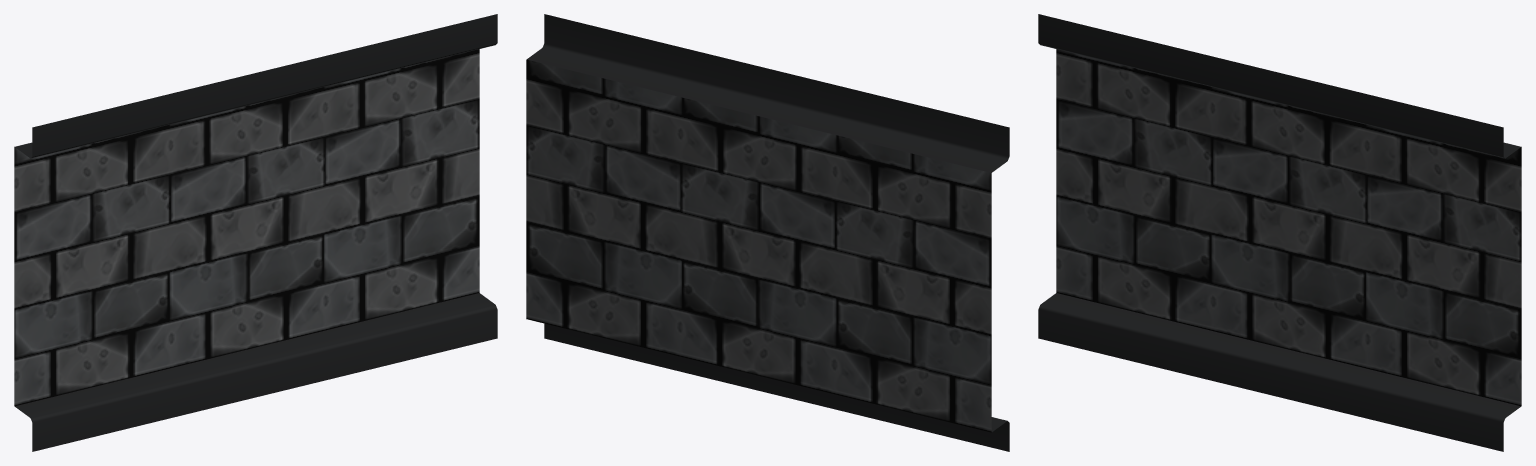
Rendered from M_Wall_3m_Half.fbx.
3 renders of one model, left to right at view 1: azimuth 30°, elevation 25°; view 2: azimuth 150°, elevation 25°; view 3: azimuth 330°, elevation 25°, orthographic.
Parts seen in each view (by area): view 1: Wall_Big_Half_Down1; view 2: Wall_Big_Half_Down1; view 3: Wall_Big_Half_Down1.
Boxes of the visible parts, x1,y1,x2,y2 form: Wall_Big_Half_Down1: (14, 14, 497, 451); Wall_Big_Half_Down1: (526, 14, 1009, 451); Wall_Big_Half_Down1: (1038, 14, 1521, 451).
Bounding box in the file's own units: 300 × 200 × 20.
